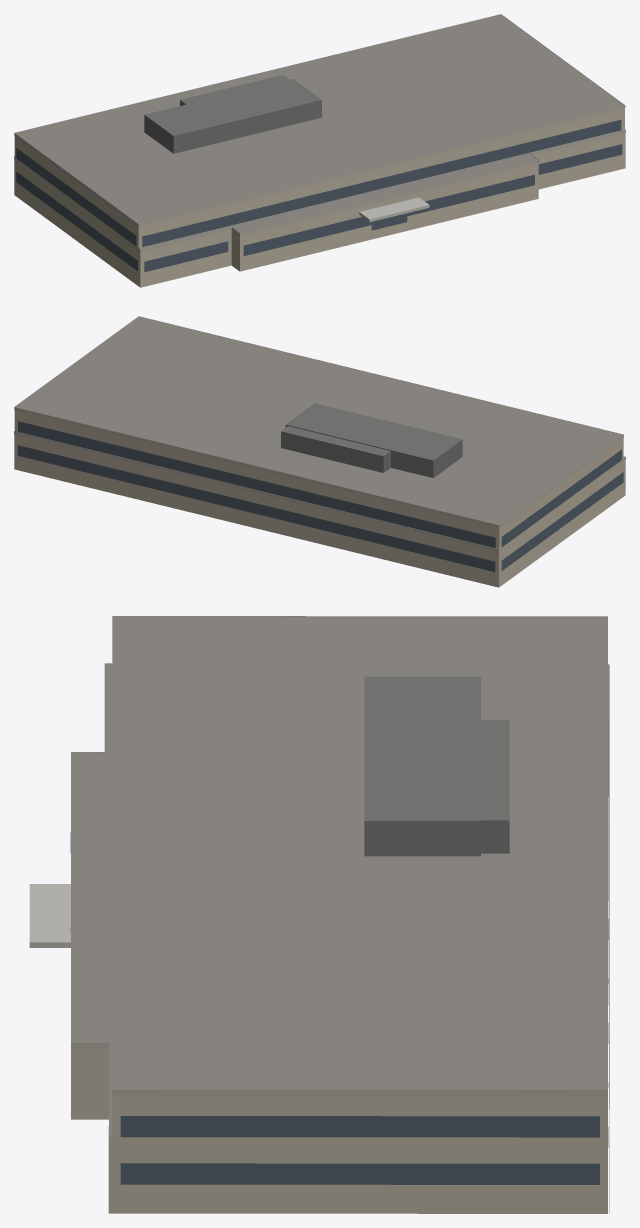
File: gabled-hall-3107-m2-unknown-use-bo23569.glb
The picture shows the model from 3 angles, top to bottom: view 1: azimuth 30°, elevation 25°; view 2: azimuth 150°, elevation 25°; view 3: azimuth 270°, elevation 25°; orthographic projection. The views are drawn at different scales.
Visible parts, largest first — view 1: gabled_hall_3107_m2_unknown_use_bo23569; view 2: gabled_hall_3107_m2_unknown_use_bo23569; view 3: gabled_hall_3107_m2_unknown_use_bo23569.
Part boxes in pixels (x1=…): gabled_hall_3107_m2_unknown_use_bo23569: x1=14, y1=14, x2=625, y2=287; gabled_hall_3107_m2_unknown_use_bo23569: x1=14, y1=316, x2=625, y2=587; gabled_hall_3107_m2_unknown_use_bo23569: x1=29, y1=616, x2=609, y2=1213.
Bounding box in the file's own units: 81.47 × 12.77 × 42.16.
